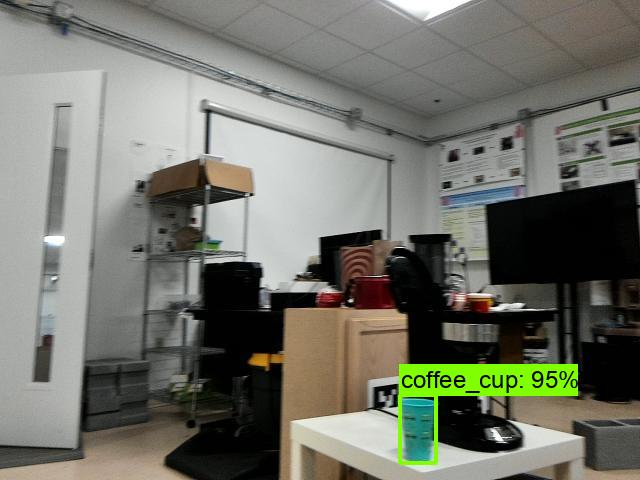coffee_cup: (398, 396, 436, 464)
